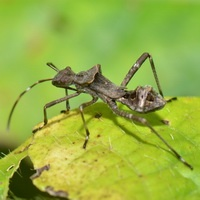insect: (7, 52, 192, 169), (125, 58, 158, 92)
